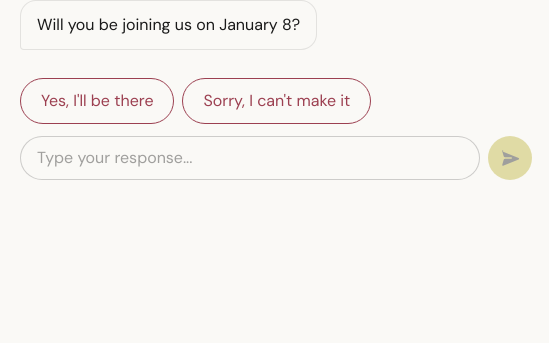
Test: RSVPChat parking question (ADR-0008) › asks attending guests for their plate before submitting
Click the button "Yes, I'll be there" at (97, 101), box top-left (20, 78), bottom-right (174, 124)
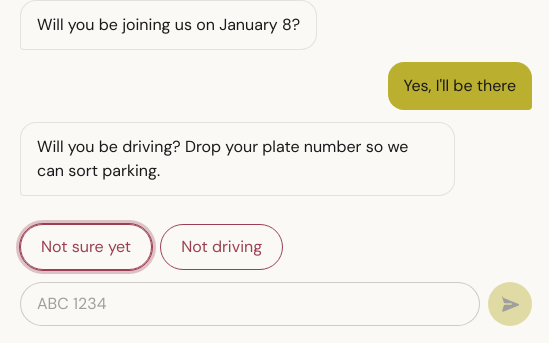
Check: the text "plate number" is shown, box top-left (37, 136), bottom-right (408, 181)
Check: the button "Not sure yet" is shown, box top-left (20, 224), bottom-right (152, 270)
Check: the button "Not driving" is shown, box top-left (160, 224), bottom-right (283, 270)
